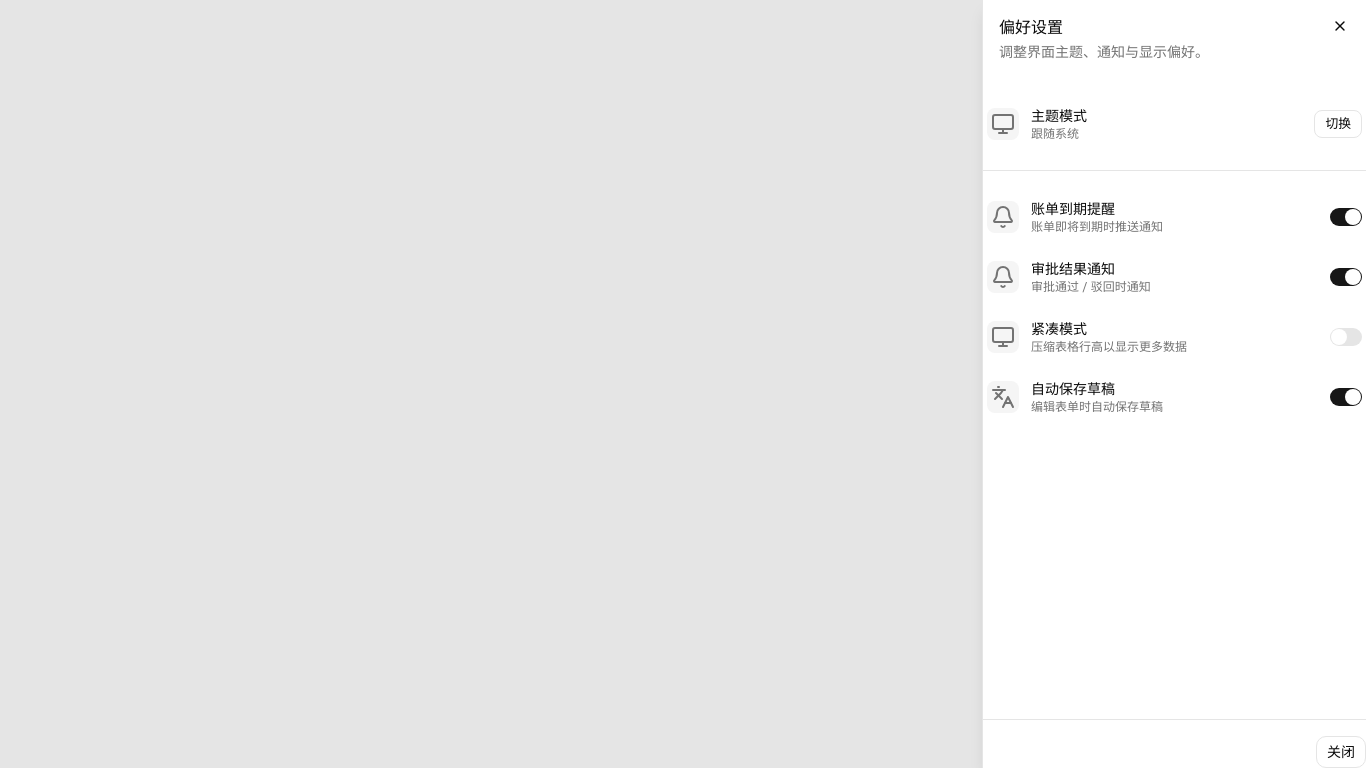
Scenario: PreferencePanel › cycles the theme label on each click of the toggle button
Expected: the text "跟随系统" is shown, [1031,126,1087,142]
Click the button "切换": (1338, 124) [1314,110,1362,138]
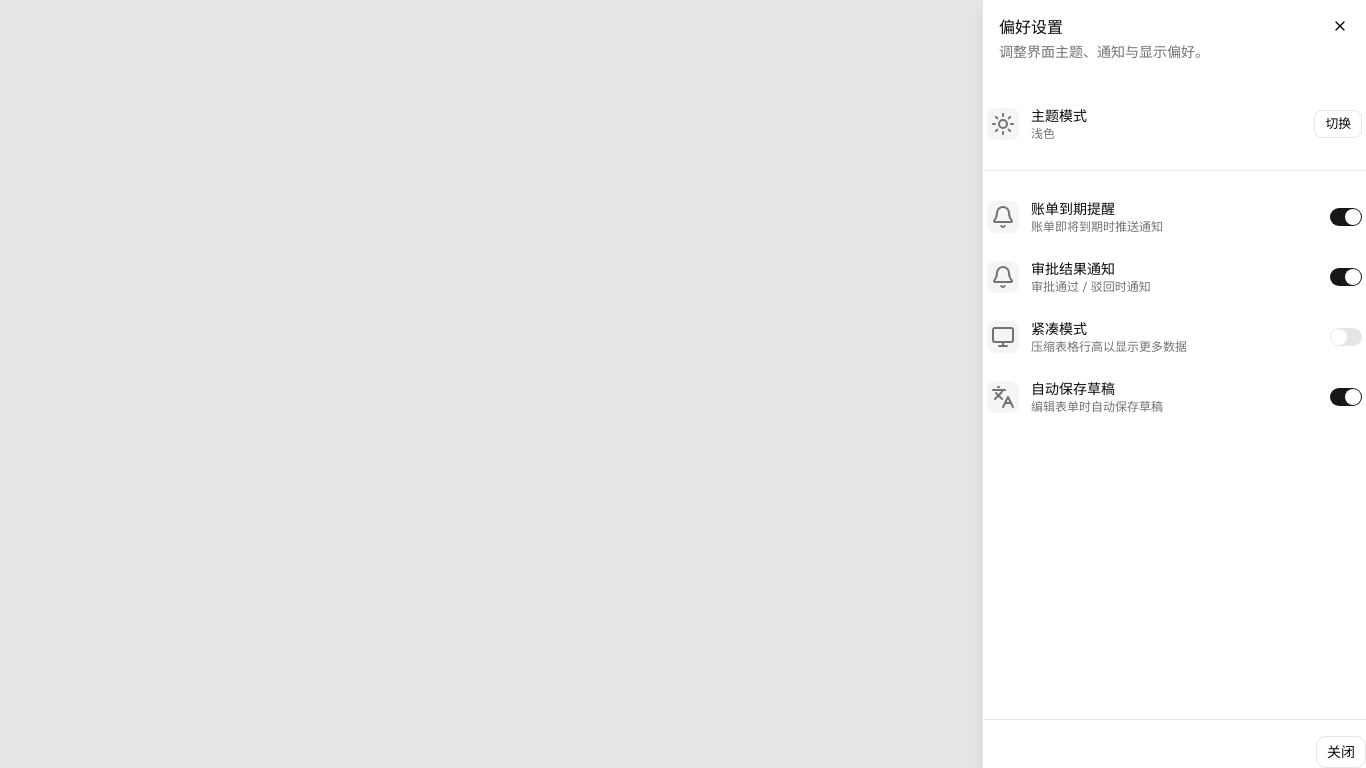
Now the text "浅色" is shown, box [1031,126,1055,142]
Click the button "切换": (1338, 124) [1314,110,1362,138]
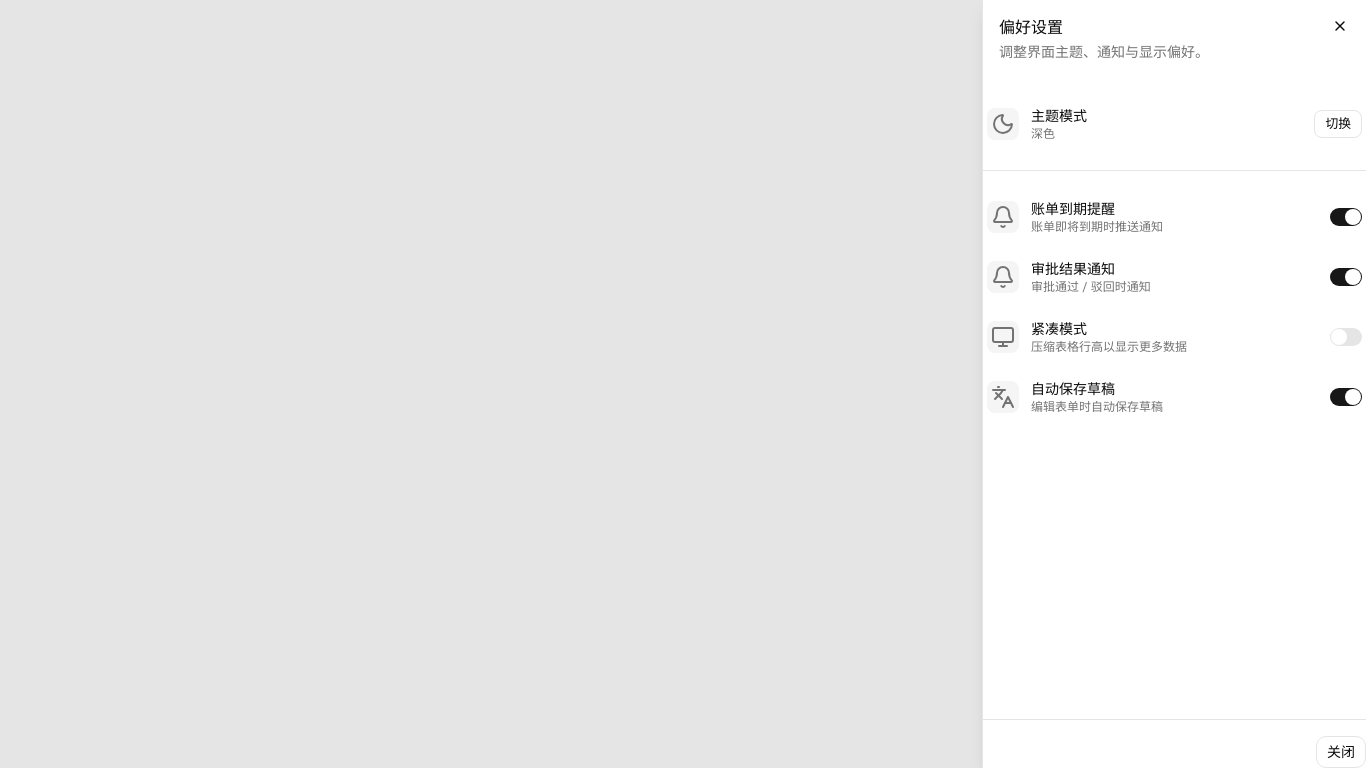
Now the text "深色" is shown, box [1031,126,1055,142]
Click the button "切换": (1338, 124) [1314,110,1362,138]
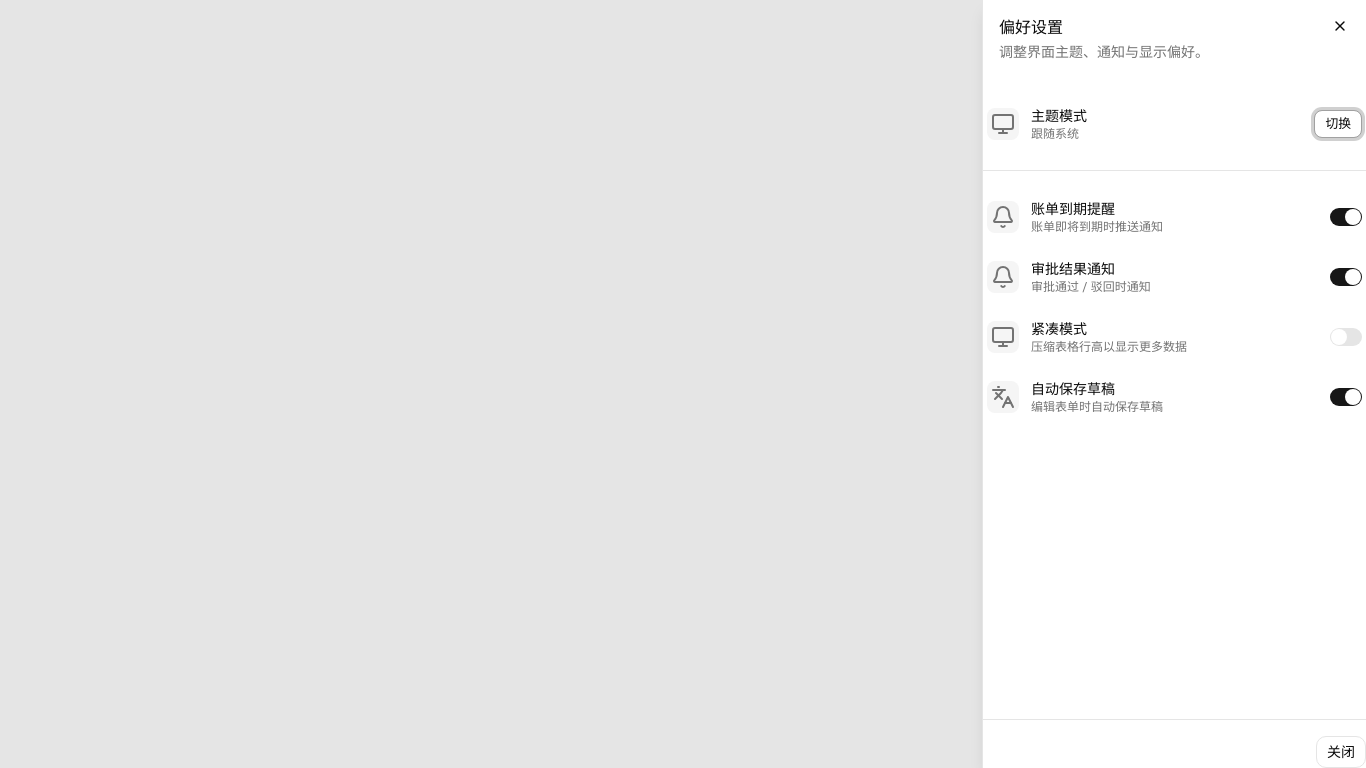
Now the text "跟随系统" is shown, box [1031,126,1087,142]
